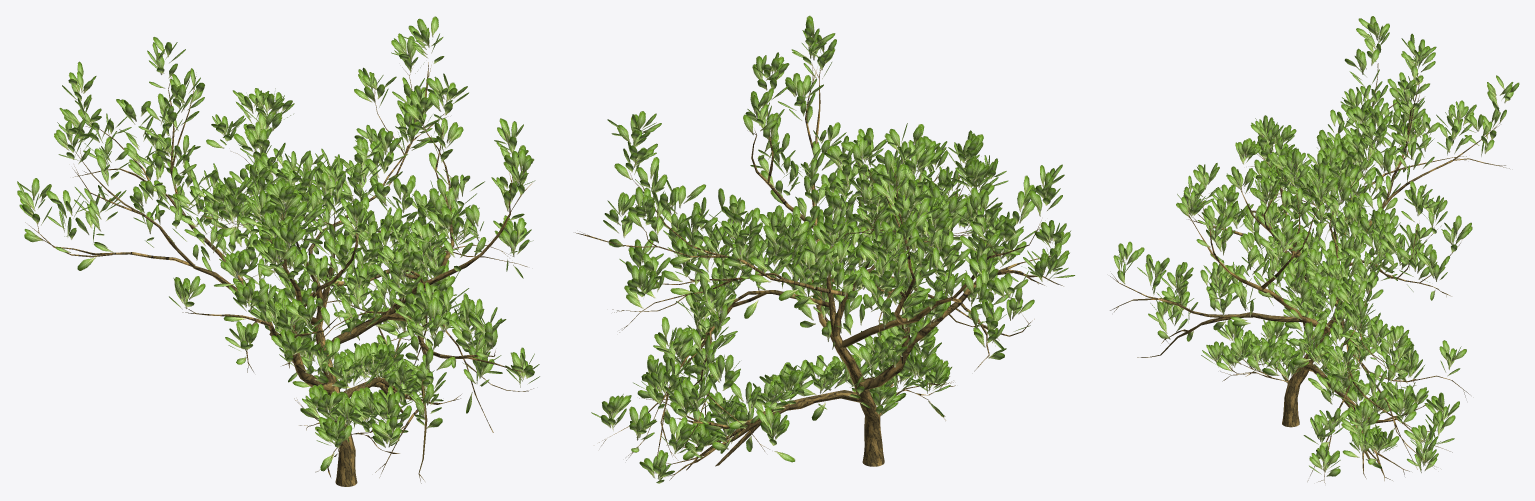
File: bush.obj
3 views of the same model, side by side, from view 1: azimuth 30°, elevation 25°; view 2: azimuth 150°, elevation 25°; view 3: azimuth 270°, elevation 25° (orthographic). The views are drawn at different scales.
Parts seen in each view (by area): view 1: leaves.001, stems_1.001, trunk.001; view 2: leaves.001, stems_1.001, trunk.001; view 3: leaves.001, stems_1.001, trunk.001.
Boxes of the visible parts, x1,y1,x2,y2 form: leaves.001: (17,16,539,471); stems_1.001: (25,62,533,483); trunk.001: (296,211,357,486); leaves.001: (591,15,1074,483); stems_1.001: (575,64,1063,480); trunk.001: (826,246,884,466); leaves.001: (1113,16,1519,476); stems_1.001: (1110,63,1509,483); trunk.001: (1282,213,1342,427).
Size of the model in its own units: 152 by 131 by 143.
